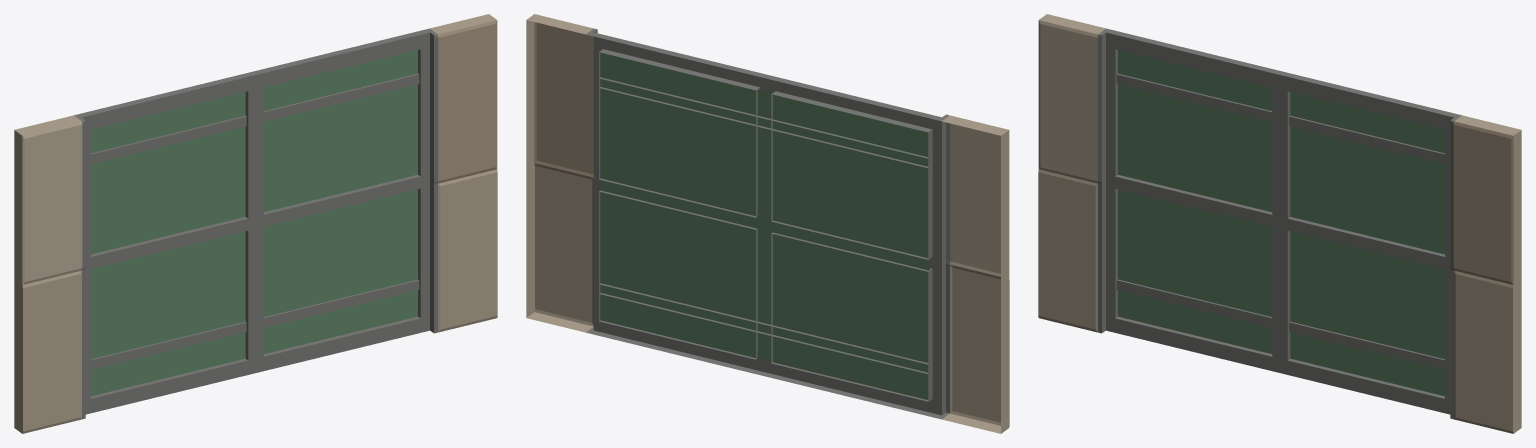
File: Wall_Exterior_Window_02.glb
3 views of the same model, side by side, from view 1: azimuth 30°, elevation 25°; view 2: azimuth 150°, elevation 25°; view 3: azimuth 330°, elevation 25° (orthographic).
Parts seen in each view (by area): view 1: SM_Env_Wall_Exterior_Window_02, SM_Env_Wall_Exterior_Window_Glass_02; view 2: SM_Env_Wall_Exterior_Window_Glass_02, SM_Env_Wall_Exterior_Window_02; view 3: SM_Env_Wall_Exterior_Window_02, SM_Env_Wall_Exterior_Window_Glass_02.
Part boxes in pixels (box(x1,y1,x2,y2)): SM_Env_Wall_Exterior_Window_02: box(14, 14, 497, 433); SM_Env_Wall_Exterior_Window_Glass_02: box(91, 50, 417, 396); SM_Env_Wall_Exterior_Window_Glass_02: box(600, 52, 929, 399); SM_Env_Wall_Exterior_Window_02: box(526, 14, 1009, 433); SM_Env_Wall_Exterior_Window_02: box(1038, 14, 1521, 433); SM_Env_Wall_Exterior_Window_Glass_02: box(1118, 50, 1444, 396).
Size of the model in its own units: 5 by 3 by 0.1578.
1 material, 1 textured.
